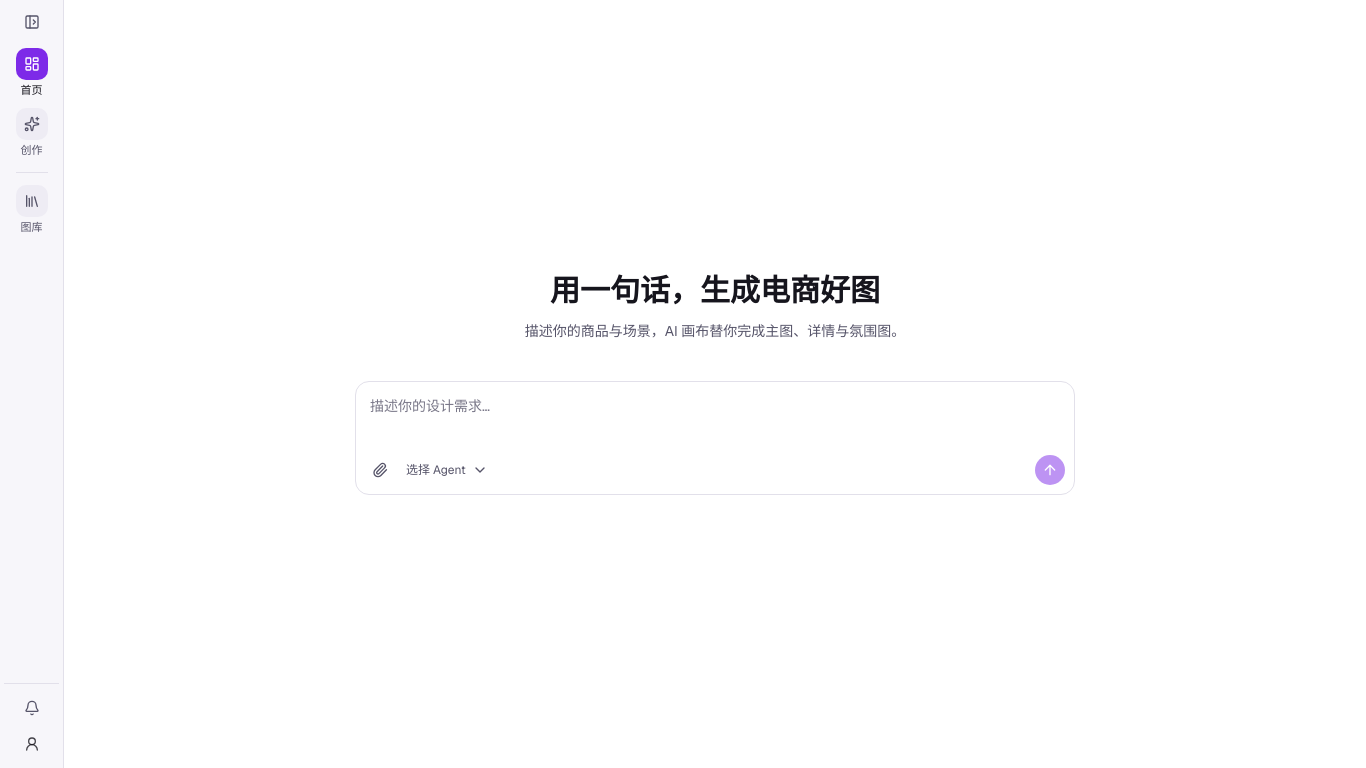
Test: 首页落地页 › 激活无子项的一级项：收起面板并回落地页
expect the button with test id "nav-home" is shown: met, box [4,44,59,102]
What coordinates should you click on to do the following:
click the button with test id "nav-library"
I would click on:
 (32, 209)
Its box is [4,180,59,238].
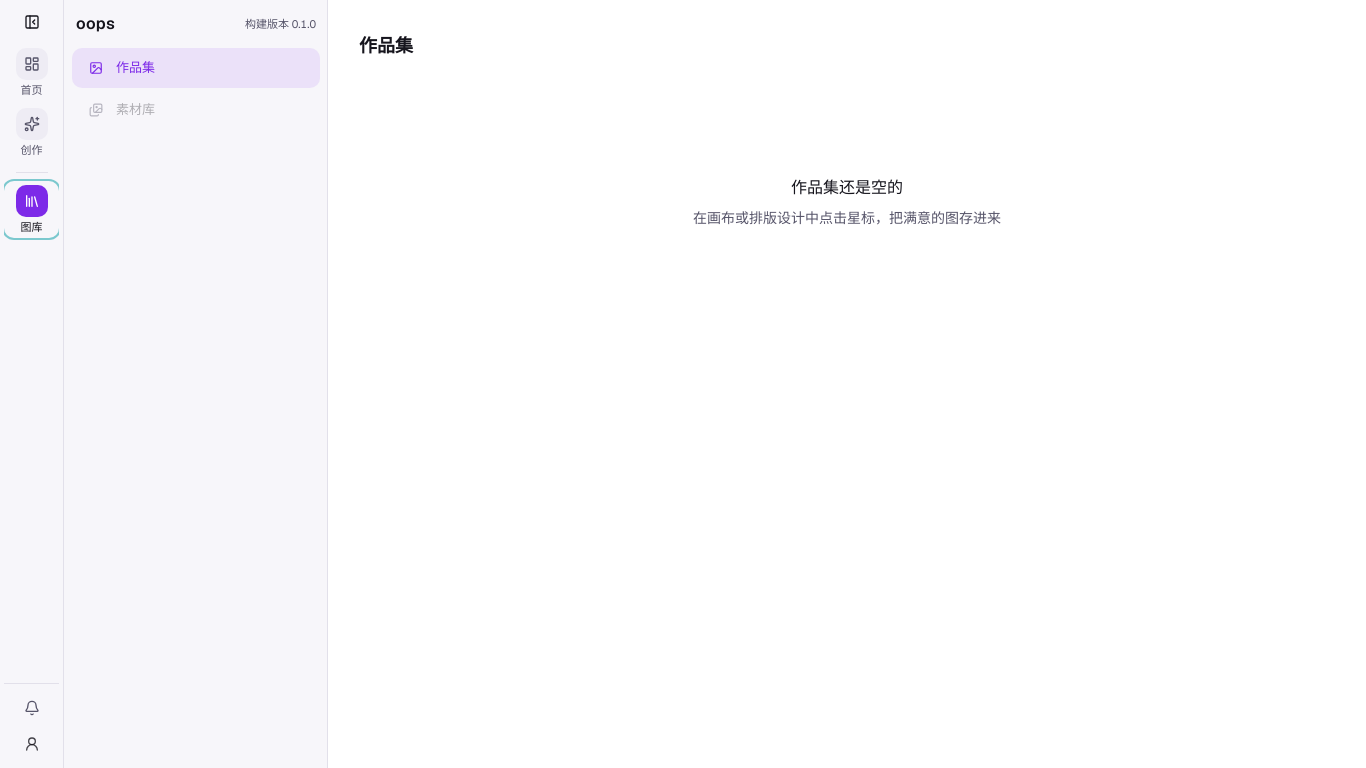
expect the element with test id "nav-panel-library" is shown: met, box [64,0,328,138]
expect the text "作品集还是空的" is shown: met, box [791,176,903,200]
What coordinates should you click on to do the following:
click the button with test id "nav-home"
I would click on:
 (32, 73)
Its box is [4,44,59,102].
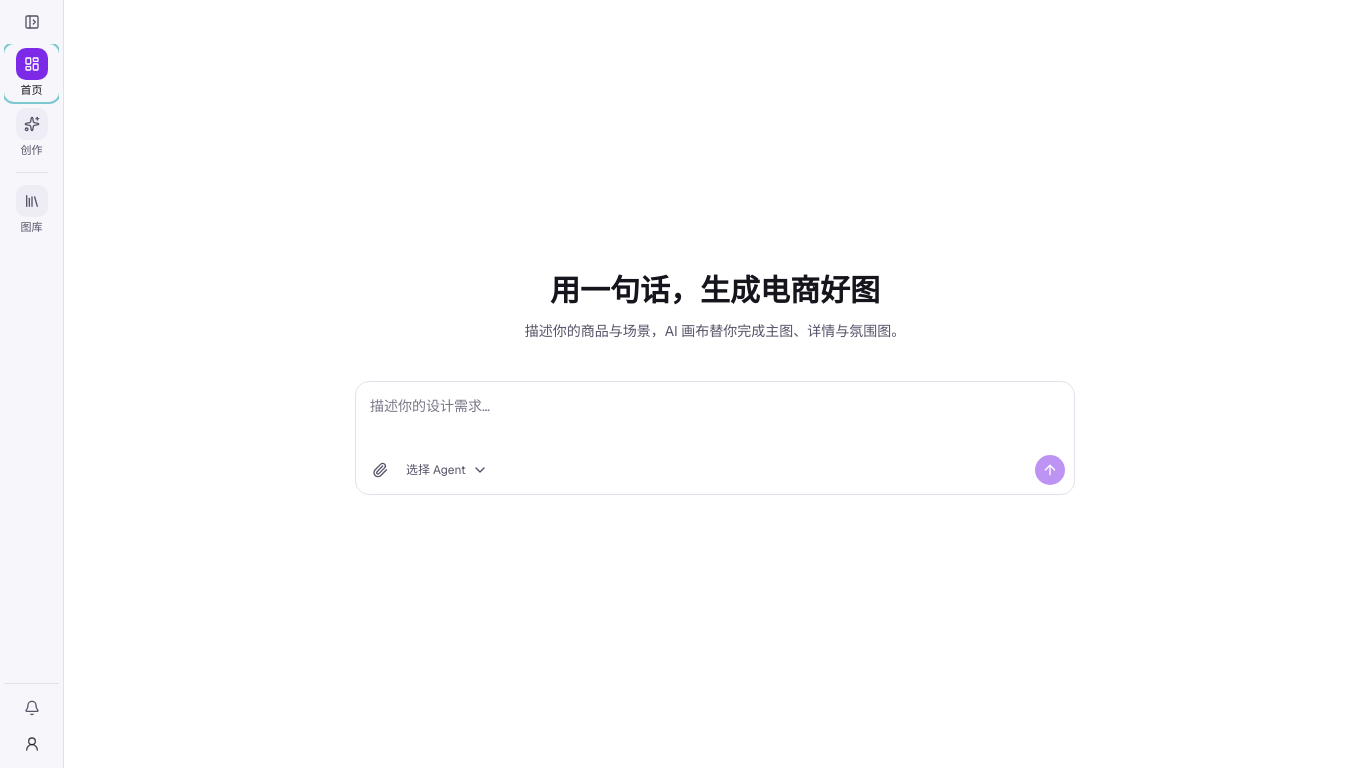
expect the heading "用一句话，生成电商好图" is shown: met, box [550,273,880,309]
